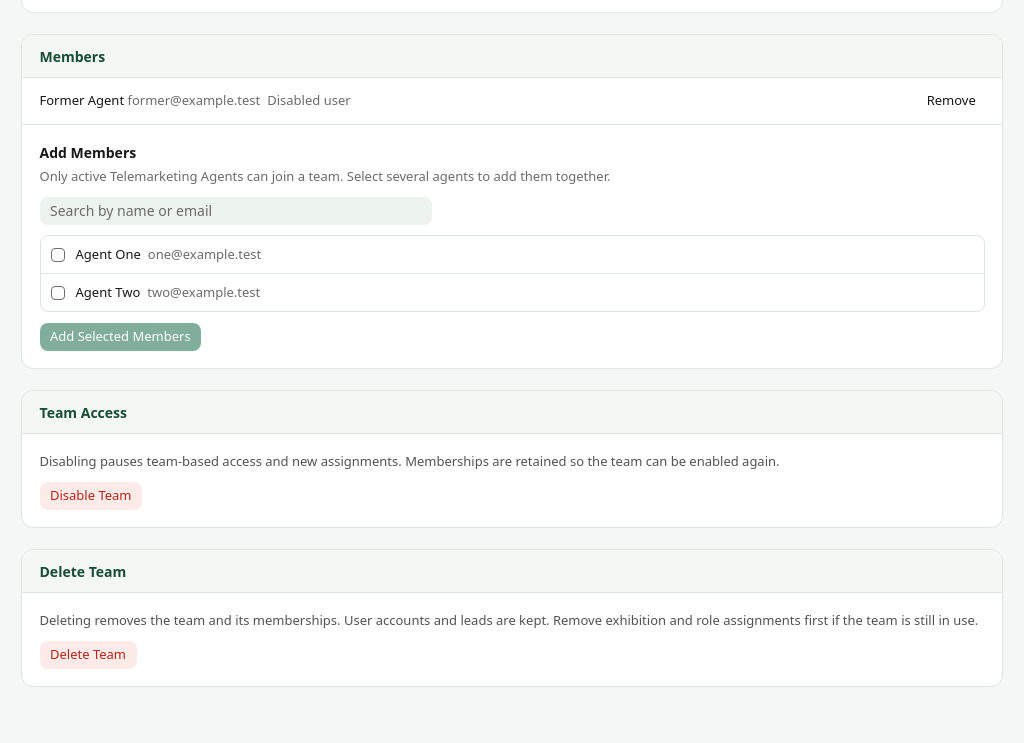
Scenario: Flexible team management › confirms disable, retains members and allows enabling again
The image size is (1024, 743).
(page scrolled)
Click the button "Disable Team": (91, 496) [40,482,142,510]
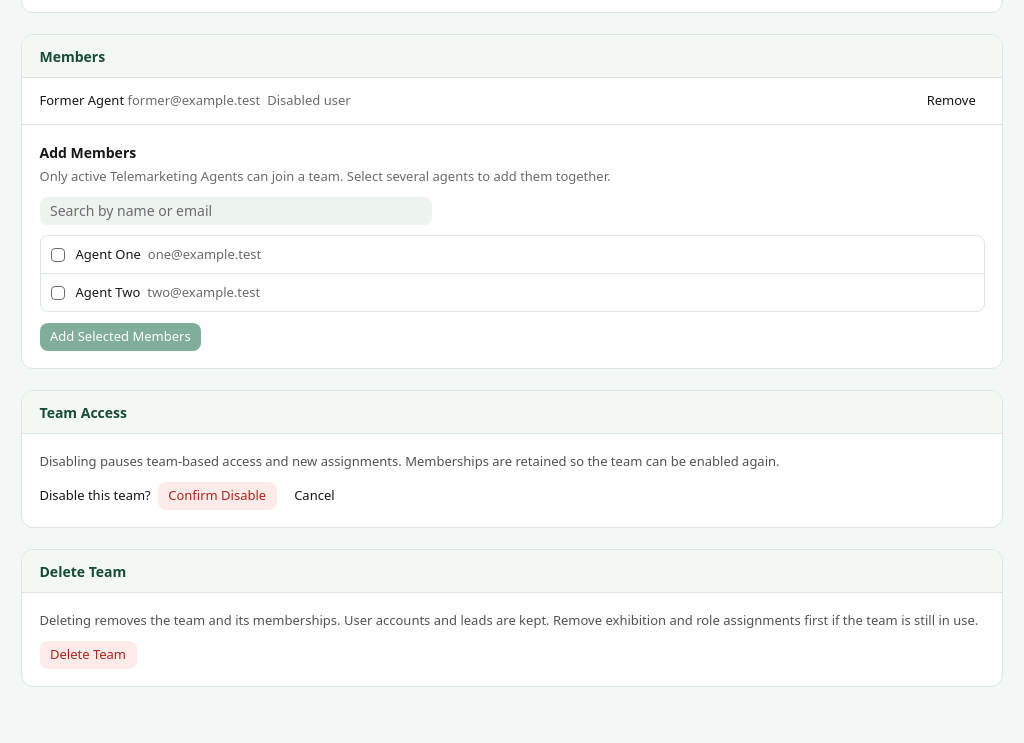
Click the button "Confirm Disable": (217, 496) [158,482,277,510]
(page scrolled)
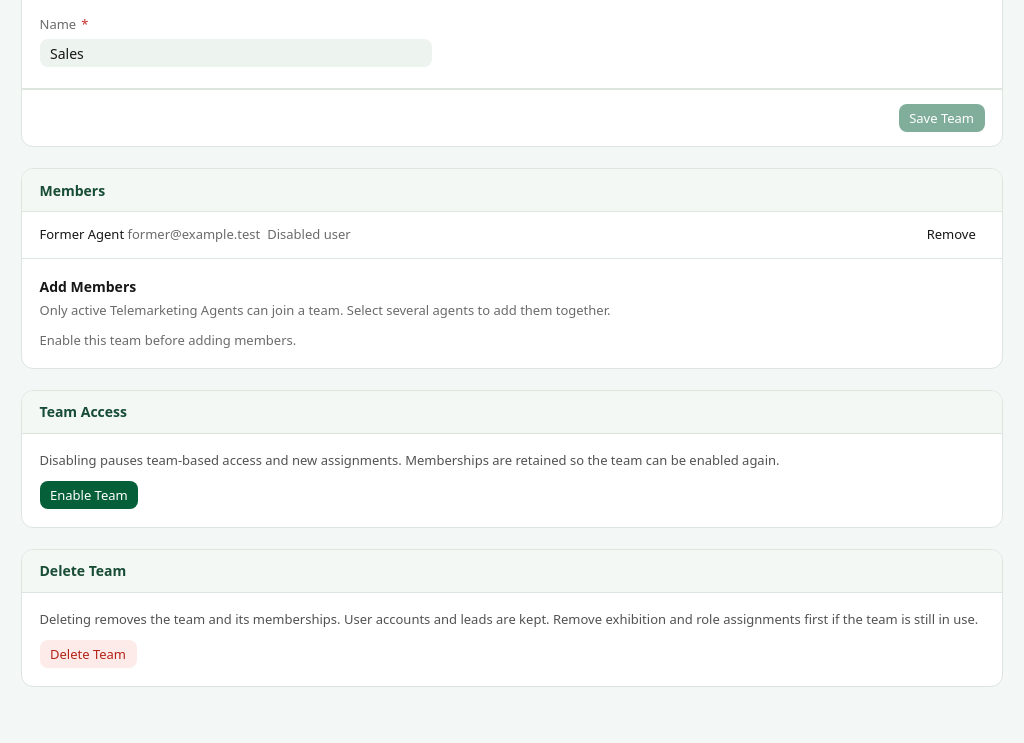
Click the button "Enable Team": (89, 495) [40,481,138,509]
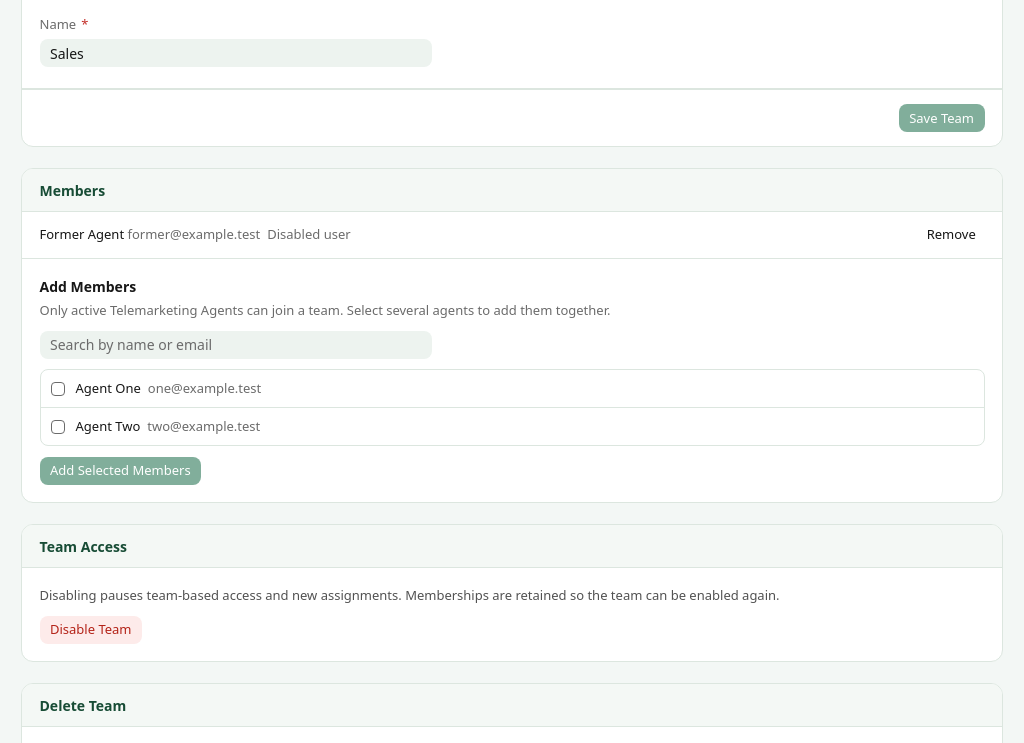
Expected: the button "Disable Team" is shown, [40,616,142,644]
